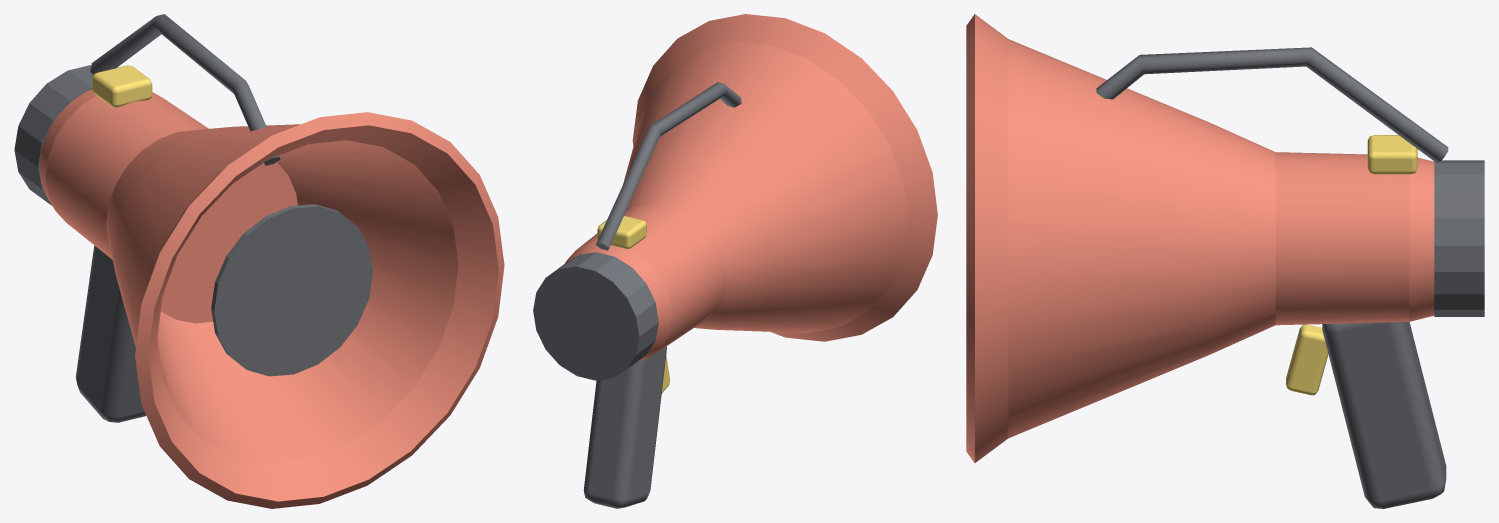
File: beach-surf-and-paddle-kit-lifeguard-megaphone-7ac9861b.glb
3 views of the same model, side by side, from view 1: azimuth 30°, elevation 25°; view 2: azimuth 150°, elevation 25°; view 3: azimuth 270°, elevation 25° (orthographic). The views are drawn at different scales.
Visible parts, largest first — view 1: lifeguard-megaphone-coral, lifeguard-megaphone-charcoal, lifeguard-megaphone-sun; view 2: lifeguard-megaphone-coral, lifeguard-megaphone-charcoal, lifeguard-megaphone-sun; view 3: lifeguard-megaphone-coral, lifeguard-megaphone-charcoal, lifeguard-megaphone-sun.
Part boxes in pixels (<box>): lifeguard-megaphone-coral: <box>39,89,504,508</box>; lifeguard-megaphone-charcoal: <box>14,14,372,422</box>; lifeguard-megaphone-sun: <box>92,65,152,107</box>; lifeguard-megaphone-coral: <box>565,14,937,361</box>; lifeguard-megaphone-charcoal: <box>533,82,741,508</box>; lifeguard-megaphone-sun: <box>597,215,670,393</box>; lifeguard-megaphone-coral: <box>966,14,1434,462</box>; lifeguard-megaphone-charcoal: <box>1096,47,1484,508</box>; lifeguard-megaphone-sun: <box>1286,135,1417,395</box>.
Bounding box in the file's own units: 0.27 × 0.3084 × 0.31.
